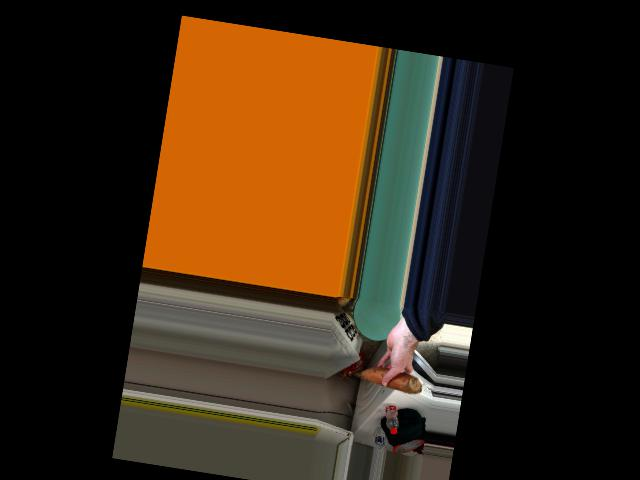sweet_potato: (360, 365, 415, 388)
